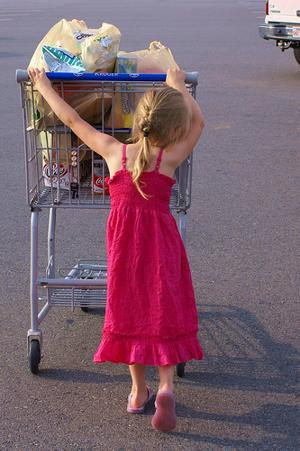person: (26, 64, 204, 432)
